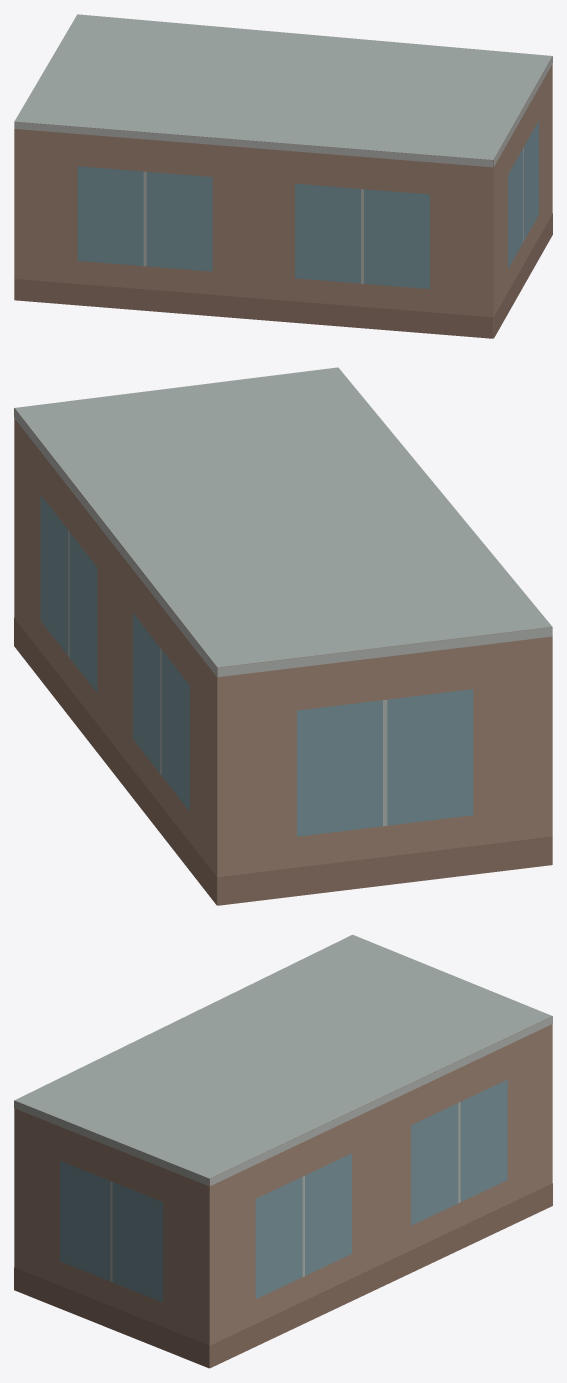
Rendered from survey-upis-32524056.glb.
3 renders of one model, top to bottom at view 1: azimuth 30°, elevation 25°; view 2: azimuth 150°, elevation 25°; view 3: azimuth 270°, elevation 25°, orthographic. The views are drawn at different scales.
Parts seen in each view (by area): view 1: survey-upis-32524056.tmp; view 2: survey-upis-32524056.tmp; view 3: survey-upis-32524056.tmp.
Boxes of the visible parts, bbox=[...] form: survey-upis-32524056.tmp: bbox=[14, 14, 552, 338]; survey-upis-32524056.tmp: bbox=[14, 367, 552, 905]; survey-upis-32524056.tmp: bbox=[14, 934, 552, 1368].
Size of the model in its own units: 8.43 by 3.05 by 7.86.
